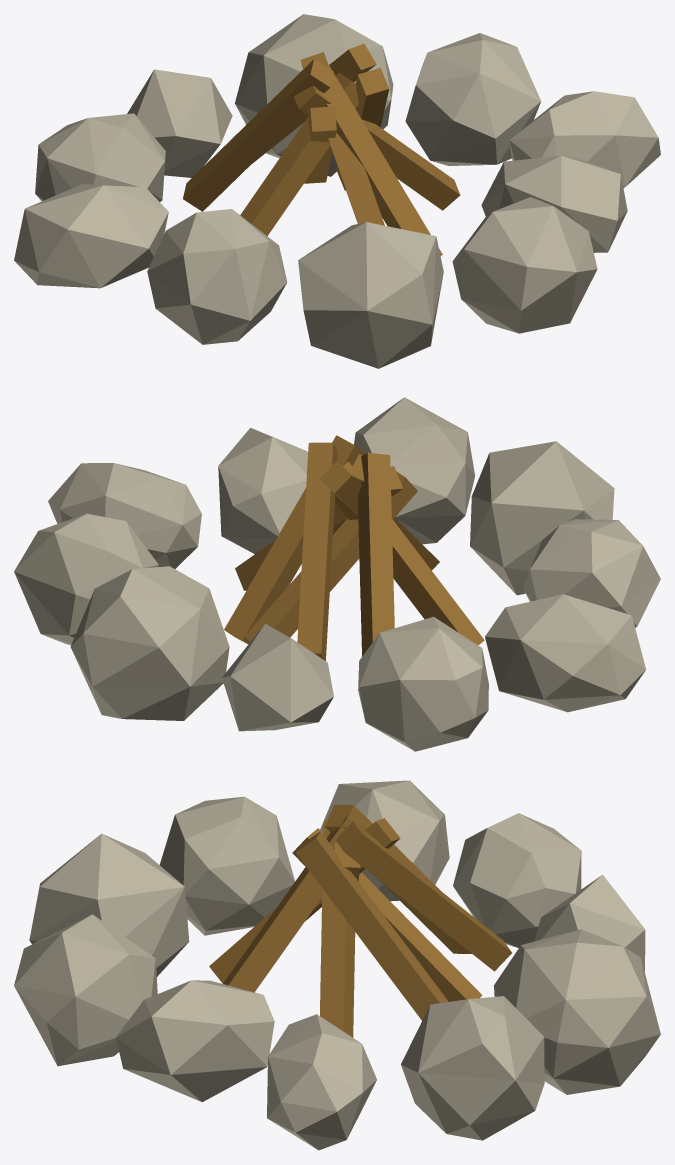
Rendered from campfire.fbx.
3 views of the same model, one above another, from view 1: azimuth 30°, elevation 25°; view 2: azimuth 150°, elevation 25°; view 3: azimuth 270°, elevation 25° (orthographic). The views are drawn at different scales.
Visible parts, largest first — view 1: Icosphere.008, Icosphere.007, Icosphere.009, Icosphere.004, Icosphere, Icosphere.005, Icosphere.001, Icosphere.006, Icosphere.003, Icosphere.002, Cube.006, Cube.007 (+6 smaller); view 2: Icosphere.003, Icosphere, Icosphere.001, Icosphere.008, Icosphere.004, Icosphere.007, Icosphere.009, Icosphere.005, Icosphere.002, Icosphere.006, Cube.006, Cube.005 (+5 smaller); view 3: Icosphere.003, Icosphere.004, Icosphere.007, Icosphere.006, Icosphere.009, Icosphere.008, Icosphere.001, Icosphere.005, Cube.003, Icosphere, Cube.005, Icosphere.002 (+5 smaller).
Boxes of the visible parts, <box> form: Icosphere.008: <box>298,222,443,368</box>; Icosphere.007: <box>452,197,597,333</box>; Icosphere.009: <box>147,209,287,344</box>; Icosphere.004: <box>405,33,541,165</box>; Icosphere: <box>14,184,168,288</box>; Icosphere.005: <box>509,91,660,187</box>; Icosphere.001: <box>35,113,165,201</box>; Icosphere.006: <box>481,155,627,252</box>; Icosphere.003: <box>235,14,393,176</box>; Icosphere.002: <box>127,69,232,177</box>; Cube.006: <box>183,59,333,211</box>; Cube.007: <box>320,64,442,255</box>; Icosphere.003: <box>70,566,229,720</box>; Icosphere: <box>485,594,645,712</box>; Icosphere.001: <box>358,616,488,751</box>; Icosphere.008: <box>470,441,614,595</box>; Icosphere.004: <box>14,513,158,644</box>; Icosphere.007: <box>354,397,474,544</box>; Icosphere.009: <box>523,519,660,627</box>; Icosphere.005: <box>48,463,201,568</box>; Icosphere.002: <box>222,623,333,731</box>; Icosphere.006: <box>218,427,308,553</box>; Cube.006: <box>357,452,394,656</box>; Cube.005: <box>297,442,337,660</box>; Icosphere.003: <box>494,929,660,1094</box>; Icosphere.004: <box>401,996,544,1140</box>; Icosphere.007: <box>14,914,157,1066</box>; Icosphere.006: <box>116,980,274,1102</box>; Icosphere.009: <box>159,796,295,935</box>; Icosphere.008: <box>29,833,189,976</box>; Icosphere.001: <box>453,813,581,947</box>; Icosphere.005: <box>267,1014,376,1150</box>; Cube.003: <box>295,831,448,1020</box>; Icosphere: <box>320,780,449,901</box>; Cube.005: <box>335,821,511,971</box>; Icosphere.002: <box>534,875,645,971</box>.
Size of the model in its own units: 183 by 62.27 by 162.
